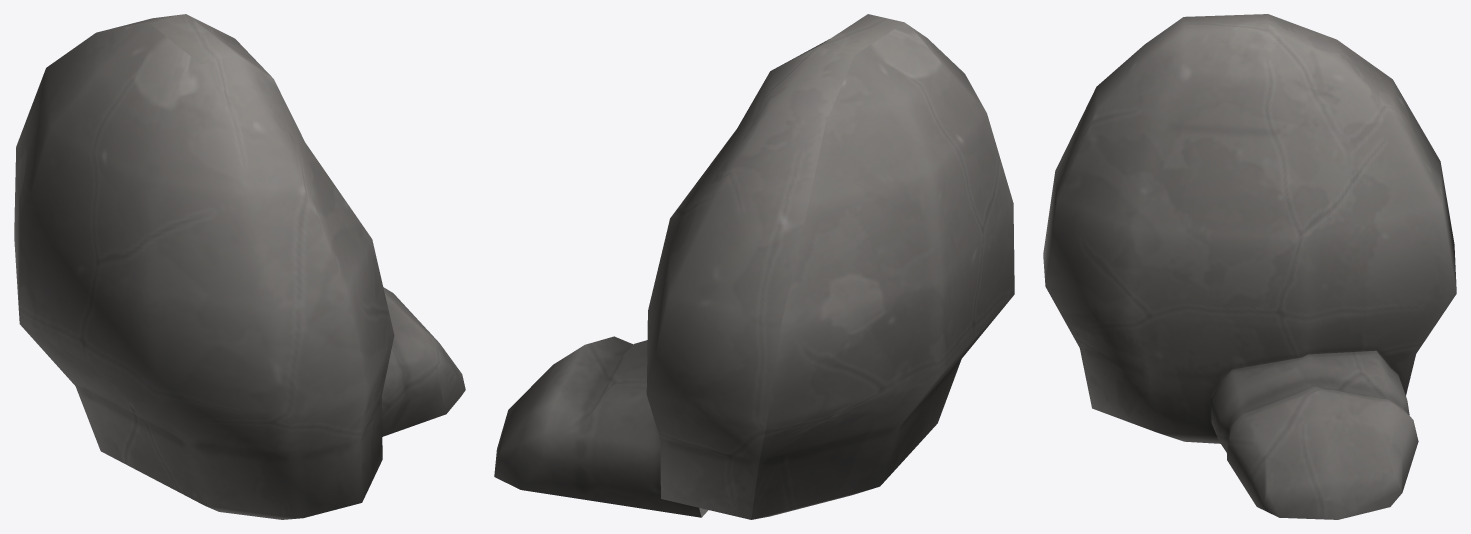
The model's file is Stones01_5.FBX.
3 views of the same model, side by side, from view 1: azimuth 30°, elevation 25°; view 2: azimuth 150°, elevation 25°; view 3: azimuth 270°, elevation 25° (orthographic). The views are drawn at different scales.
Parts seen in each view (by area): view 1: Stones01_5; view 2: Stones01_5; view 3: Stones01_5.
Boxes of the visible parts, left/top/right/bottom form: Stones01_5: left=14, top=14, right=465, bottom=519; Stones01_5: left=494, top=14, right=1014, bottom=519; Stones01_5: left=1043, top=14, right=1456, bottom=519.
Size of what is drawn, in the model's own units: 1.55 by 1.55 by 1.55.
